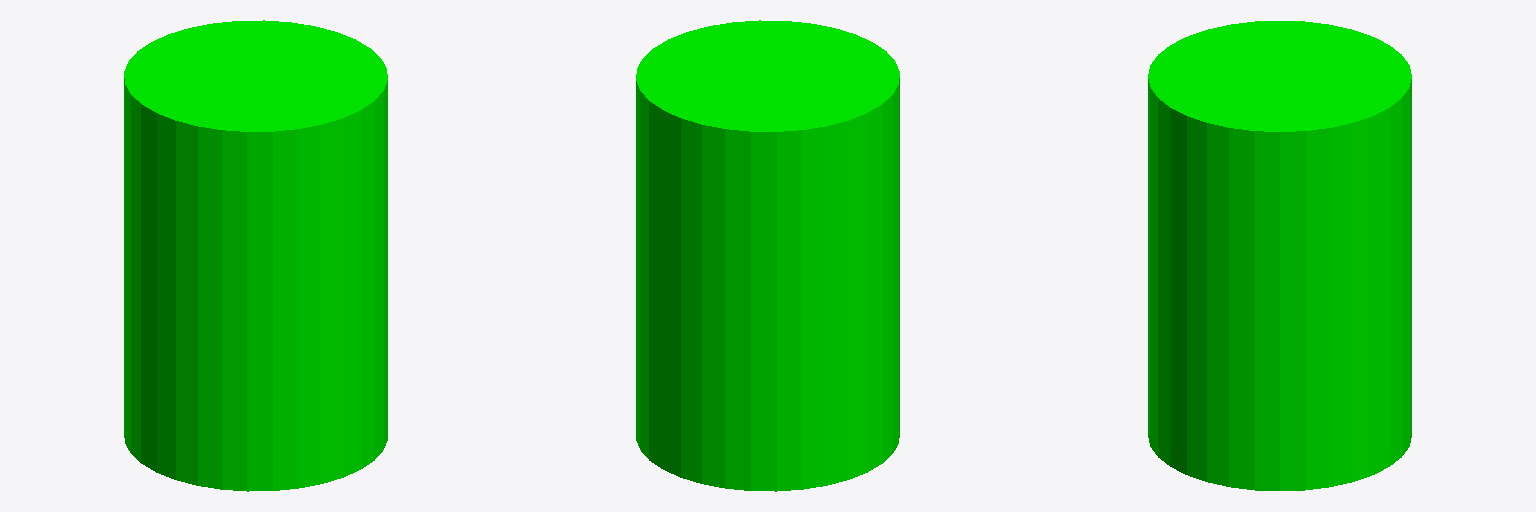
robot.urdf — CylinderObstacle:
<?xml version="1.0" encoding="UTF-8"?>
<robot name="CylinderObstacle">
  <link name="cylinder_link">
    <visual>
      <geometry>
        <cylinder radius="0.1" length="0.3"/>
      </geometry>
      <material name="green">
        <color rgba="0 1 0 1"/>
      </material>
    </visual>
    <collision>
      <geometry>
        <cylinder radius="0.1" length="0.3"/>
      </geometry>
    </collision>
    <inertial>
      <mass value="1.0"/>
      <inertia ixx="0.01" ixy="0" ixz="0" iyy="0.01" iyz="0" izz="0.01"/>
    </inertial>
  </link>
</robot>

--- Render facts (derived) ---
The picture shows the robot from 3 angles, left to right: view 1: azimuth 30°, elevation 25°; view 2: azimuth 150°, elevation 25°; view 3: azimuth 270°, elevation 25°; orthographic projection.
Robot: CylinderObstacle — 1 links, 0 joints (none); root link cylinder_link; default pose: all joints at 0.
Links seen in each view (by area): view 1: cylinder_link; view 2: cylinder_link; view 3: cylinder_link.
Link boxes in pixels (left/top/right/bottom): cylinder_link: left=124, top=20, right=387, bottom=491; cylinder_link: left=636, top=20, right=899, bottom=491; cylinder_link: left=1148, top=21, right=1411, bottom=490.
Bounding box of the posed robot: 0.2 × 0.2 × 0.3 m (x, y, z).
Geometry: primitives only (box / cylinder / sphere), no mesh files.